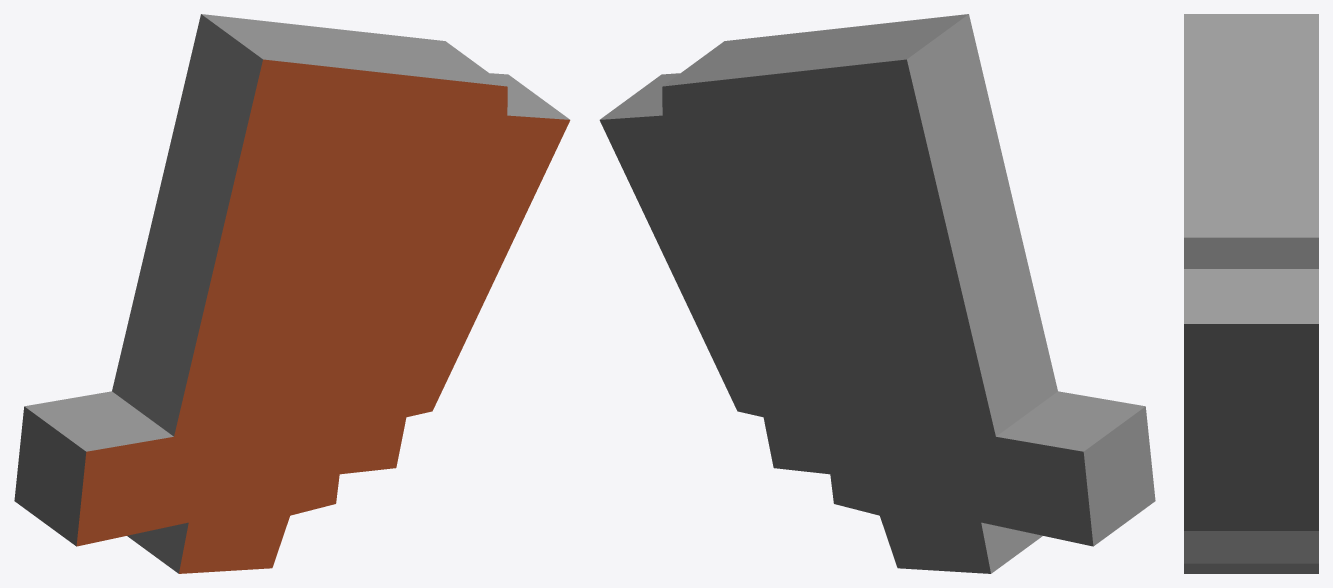
The model's file is construction_5626_assumed_A_Casa_h6m.obj.
3 views of the same model, side by side, from view 1: azimuth 30°, elevation 25°; view 2: azimuth 150°, elevation 25°; view 3: azimuth 270°, elevation 25° (orthographic). The views are drawn at different scales.
Visible parts, largest first — view 1: construction_5626_assumed_A_Casa; view 2: construction_5626_assumed_A_Casa; view 3: construction_5626_assumed_A_Casa.
Part boxes in pixels (x1=…): construction_5626_assumed_A_Casa: x1=14, y1=14, x2=570, y2=573; construction_5626_assumed_A_Casa: x1=599, y1=14, x2=1155, y2=573; construction_5626_assumed_A_Casa: x1=1184, y1=14, x2=1318, y2=573.
Size of the model in its own units: 27.55 by 27.24 by 6.
